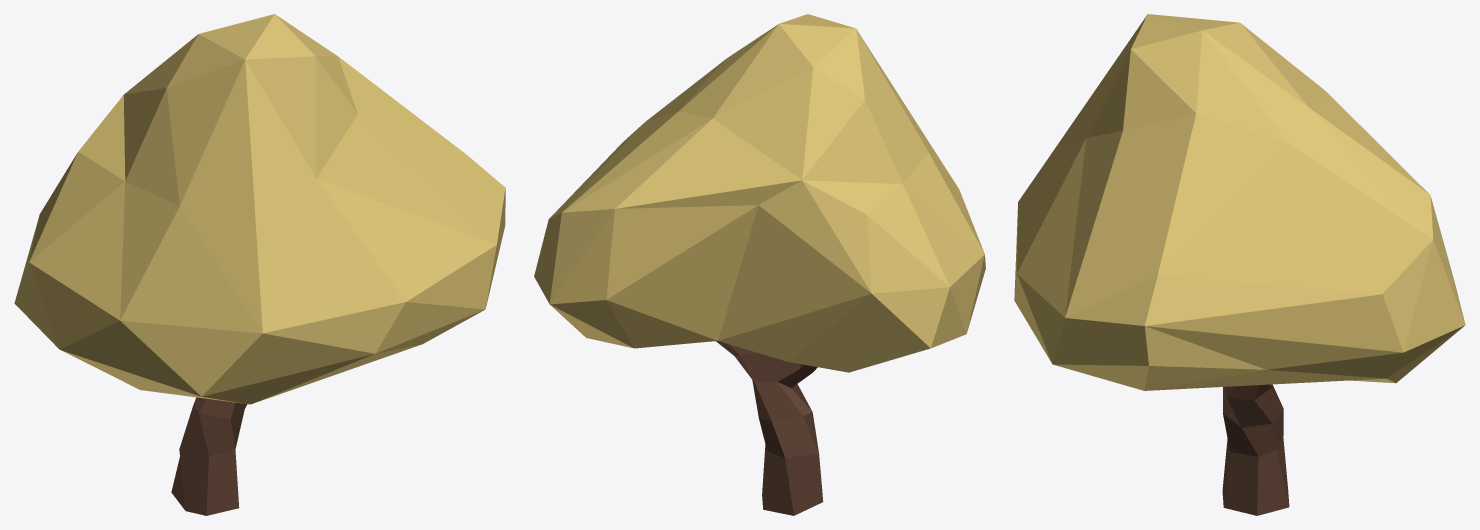
The model's file is Tree1.fbx.
3 views of the same model, side by side, from view 1: azimuth 30°, elevation 25°; view 2: azimuth 150°, elevation 25°; view 3: azimuth 270°, elevation 25° (orthographic). The views are drawn at different scales.
Parts seen in each view (by area): view 1: Icosphere.007, Cylinder.003; view 2: Icosphere.007, Cylinder.003; view 3: Icosphere.007, Cylinder.003.
Boxes of the visible parts, x1,y1,x2,y2 form: Icosphere.007: (14,14,505,404); Cylinder.003: (171,397,247,515); Icosphere.007: (534,14,985,372); Cylinder.003: (716,341,823,515); Icosphere.007: (1014,14,1465,390); Cylinder.003: (1222,384,1289,515).
Size of the model in its own units: 160 by 180 by 151.
